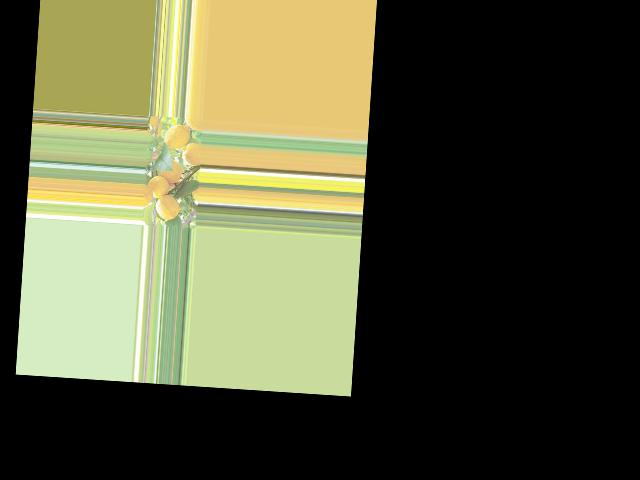lemon: (152, 192, 178, 222)
